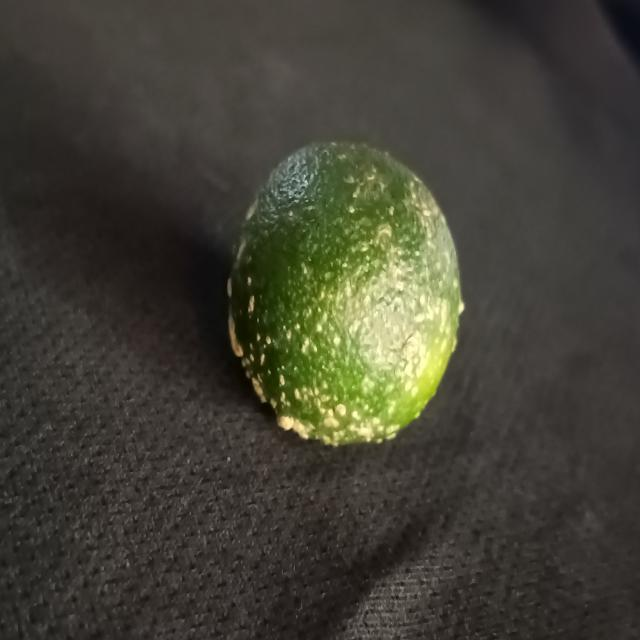scab: (227, 126, 470, 452)
